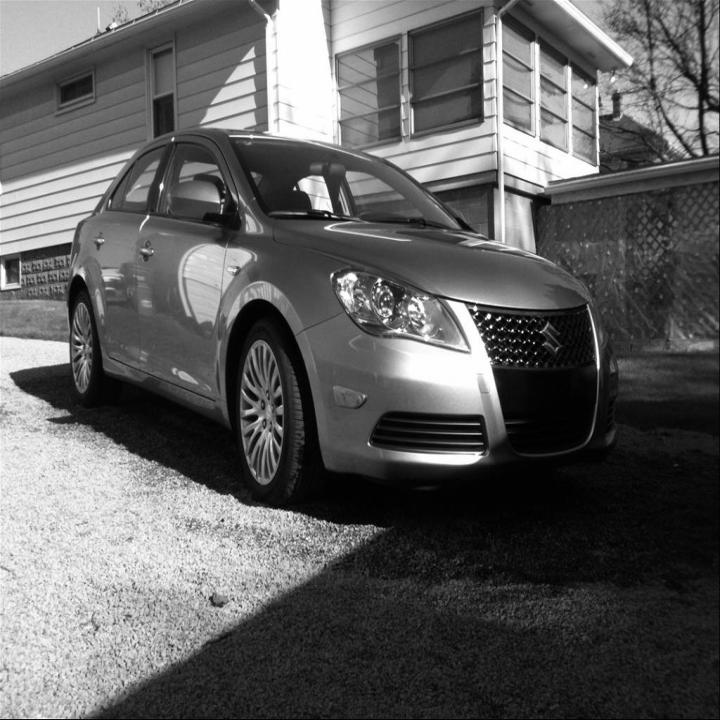car: (64, 125, 620, 507)
